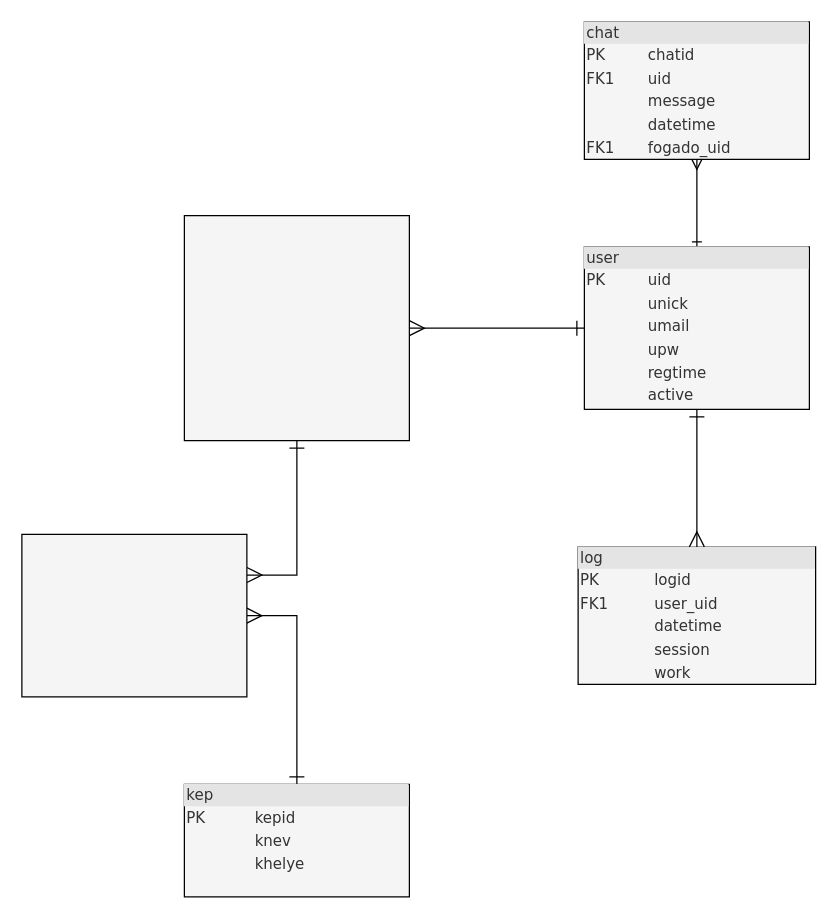
This 838x919 diagram has some shape labels left out. Here are the shapes that lost their labels. From the top down, the centre of each, then its label:
the point at 296,327: recept PK rid FK1 rcim rhozzavalok rleiras rido rnehezseg uid recept_kep
the point at 134,615: recep_kep_kapcsolo PK id FK1 rid FK2 kepid
